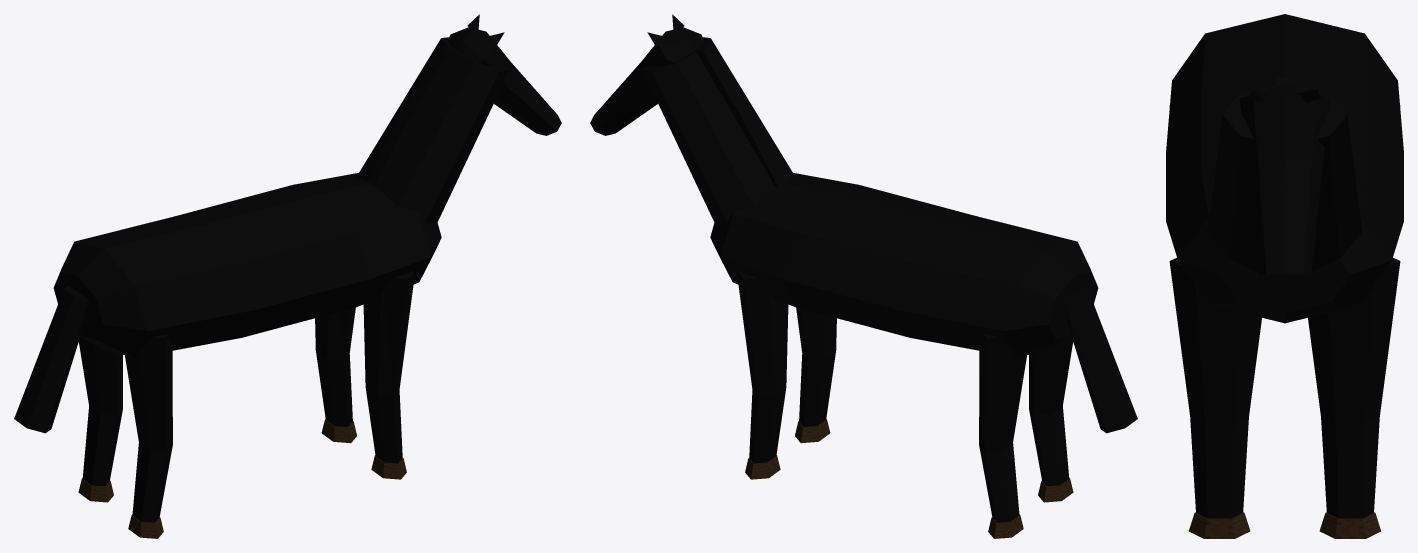
File: caballo_guerra.glb
3 views of the same model, side by side, from view 1: azimuth 30°, elevation 25°; view 2: azimuth 150°, elevation 25°; view 3: azimuth 270°, elevation 25° (orthographic). The views are drawn at different scales.
Visible parts, largest first — view 1: cuerpo, cuello, pata_delantera_der, pata_trasera_der, cola, pata_trasera_izq, cabeza, pata_delantera_izq, crin; view 2: cuerpo, cuello, pata_delantera_izq, pata_trasera_izq, cola, pata_trasera_der, cabeza, pata_delantera_der, crin; view 3: cuerpo, pata_delantera_izq, pata_delantera_der, cabeza, cuello, pezuna_delantera_izq, pezuna_delantera_der, orejas.
Boxes of the visible parts, box(x1,y1,x2,y2) form: cuerpo: box(53, 173, 441, 357); cuello: box(356, 37, 509, 223); pata_delantera_der: box(363, 271, 414, 463); pata_trasera_der: box(125, 334, 172, 522); cola: box(14, 285, 87, 433); pata_trasera_izq: box(78, 336, 122, 486); cabeza: box(447, 27, 561, 135); pata_delantera_izq: box(315, 307, 355, 426); crin: box(366, 45, 459, 187); cuerpo: box(710, 173, 1098, 357); cuello: box(642, 37, 795, 223); pata_delantera_izq: box(737, 271, 788, 463); pata_trasera_izq: box(979, 334, 1026, 522); cola: box(1064, 285, 1137, 433); pata_trasera_der: box(1029, 336, 1073, 486); cabeza: box(590, 27, 704, 135); pata_delantera_der: box(796, 307, 836, 426); crin: box(692, 45, 785, 187); cuerpo: box(1166, 14, 1403, 323); pata_delantera_izq: box(1308, 258, 1400, 518); pata_delantera_der: box(1169, 258, 1261, 518); cabeza: box(1239, 84, 1330, 277); cuello: box(1207, 84, 1362, 271); pezuna_delantera_izq: box(1319, 512, 1380, 538); pezuna_delantera_der: box(1189, 512, 1250, 538); orejas: box(1249, 89, 1320, 102).
Bounding box in the file's own units: 2.4 × 1.7 × 0.7.
1 material, 1 textured.
